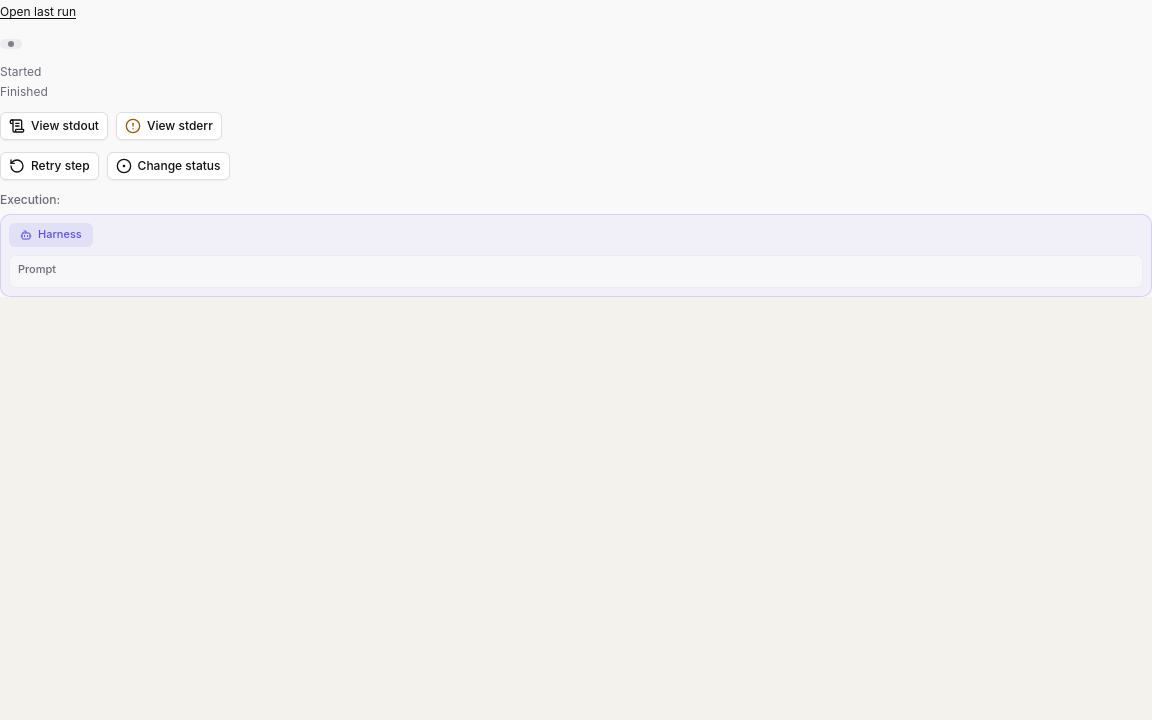
Test case: StepRunView facts › opens the status update from Change status
The image size is (1152, 720).
Click the button "Change status" at (168, 166), box [107,152,230,180]
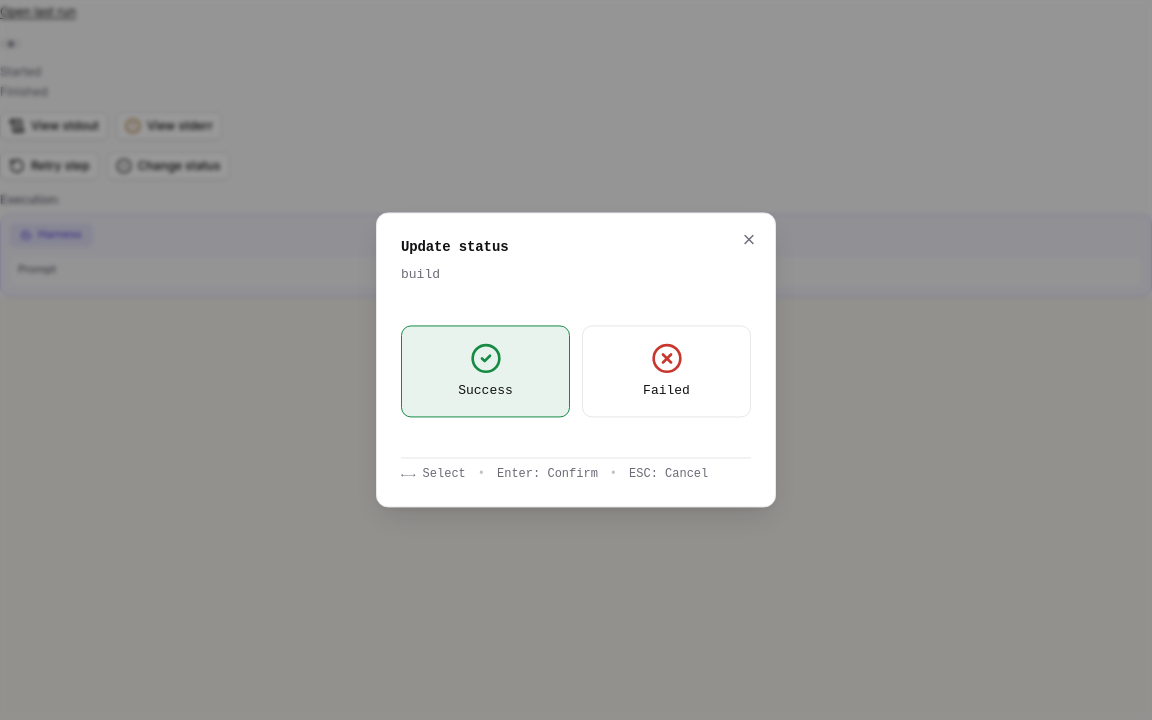
Result: the heading "Update status" is shown at [401,239,508,255]
